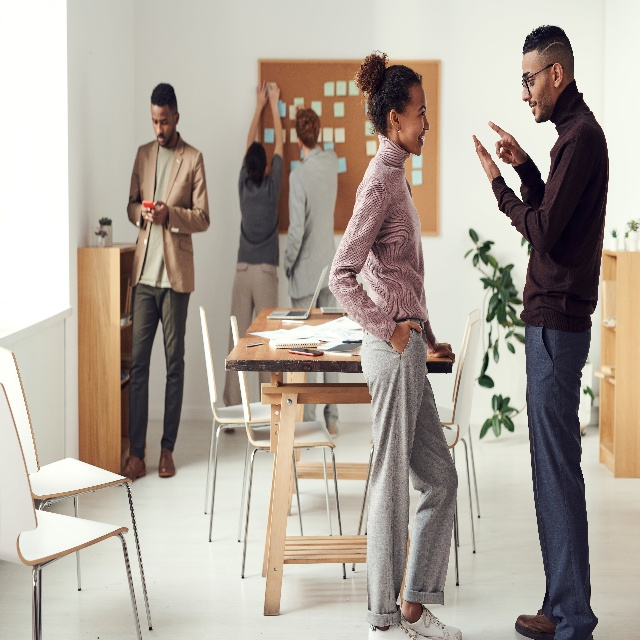Gafas: (522, 64, 556, 95)
Sin_guantes: (488, 120, 527, 167), (472, 134, 501, 186), (390, 320, 423, 354), (428, 342, 456, 365), (145, 199, 169, 225), (268, 83, 281, 108), (257, 79, 268, 108), (141, 202, 150, 222)
